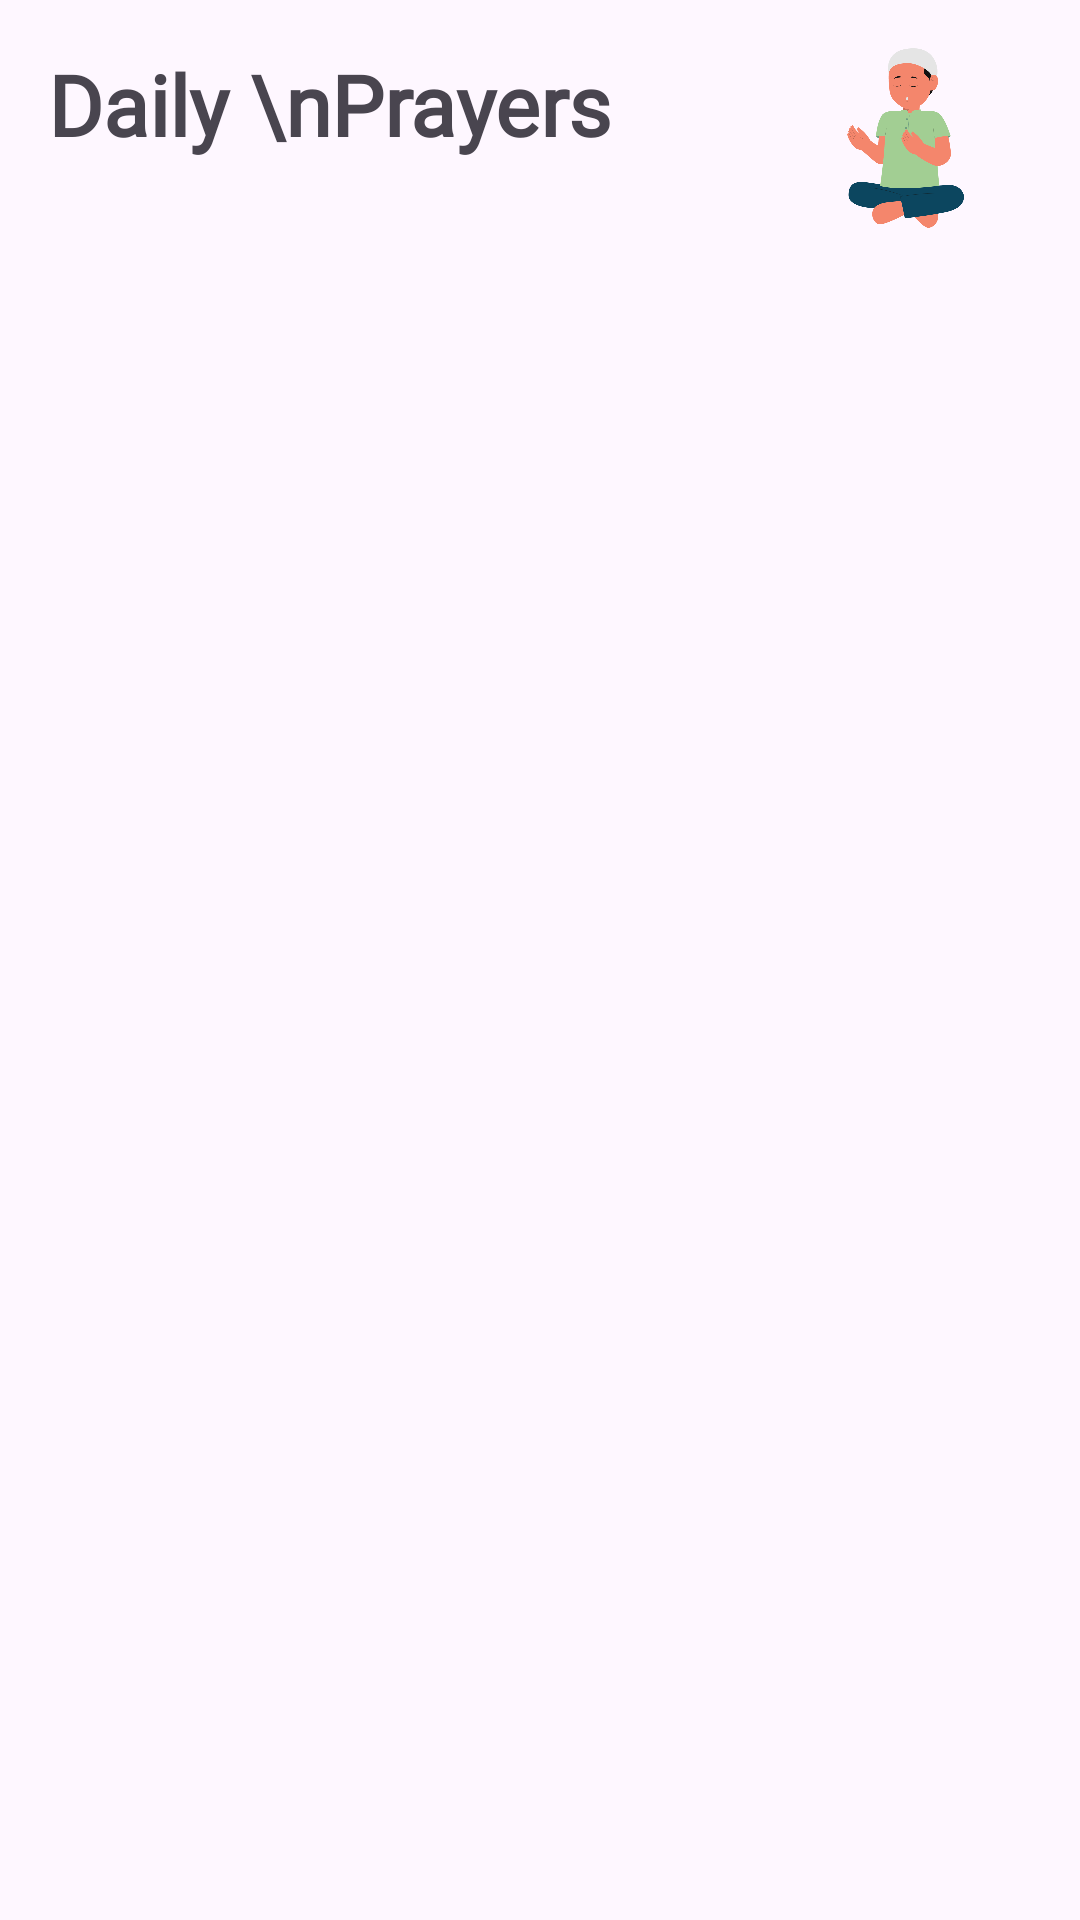

Point at icon controls on the screen. Image size 1080px×1920px, points as point (x, y).
sunnah: point (905, 138)
